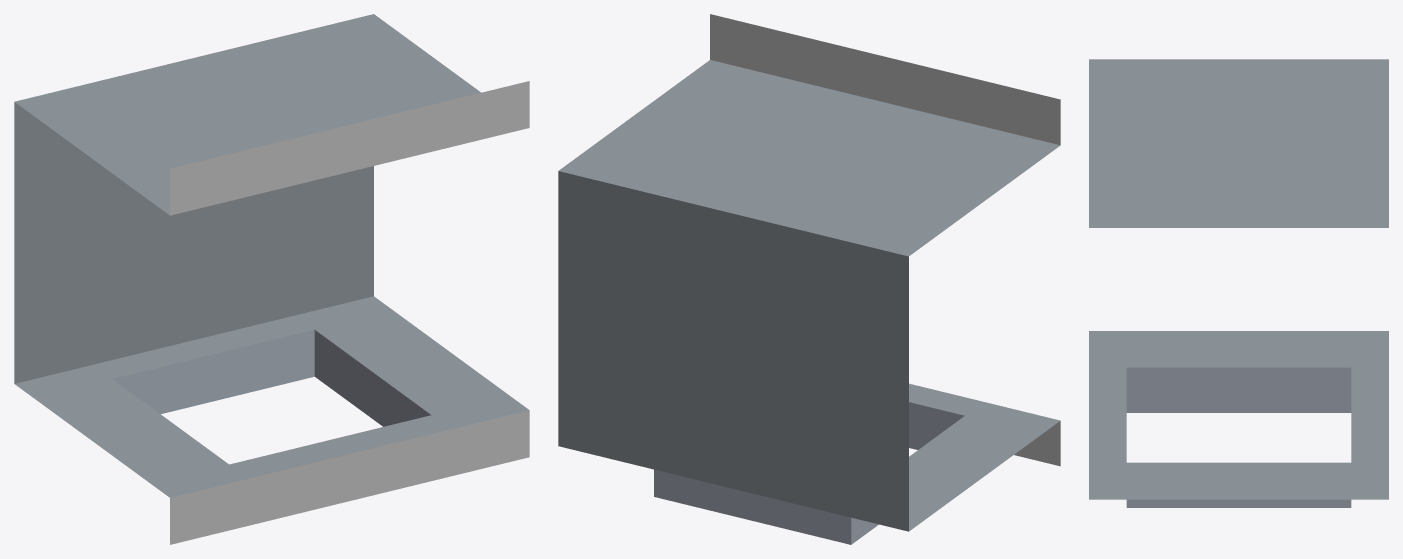
File: cell_83.obj
3 views of the same model, side by side, from view 1: azimuth 30°, elevation 25°; view 2: azimuth 150°, elevation 25°; view 3: azimuth 270°, elevation 25° (orthographic). The views are drawn at different scales.
Bounding box in the file's own units: 1 × 1 × 0.75.
